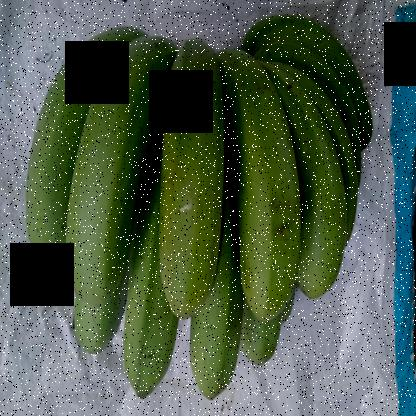unripe: (60, 34, 192, 318), (155, 7, 231, 328), (19, 3, 105, 279), (230, 22, 304, 338), (288, 91, 350, 319), (117, 262, 186, 407), (44, 299, 130, 375), (186, 298, 238, 414), (240, 316, 296, 388)
